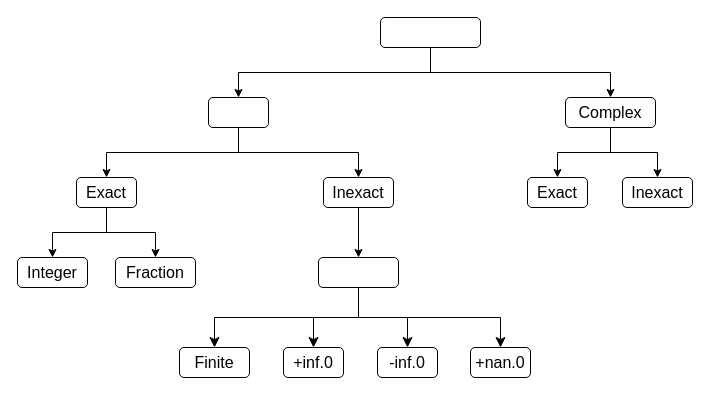
This 710x395 diagram has some shape labels left out. The centre of each missing label's shape, as x and y in pixels:
Float64: the point at 358,272
Number: the point at 430,32
Real: the point at 238,112
